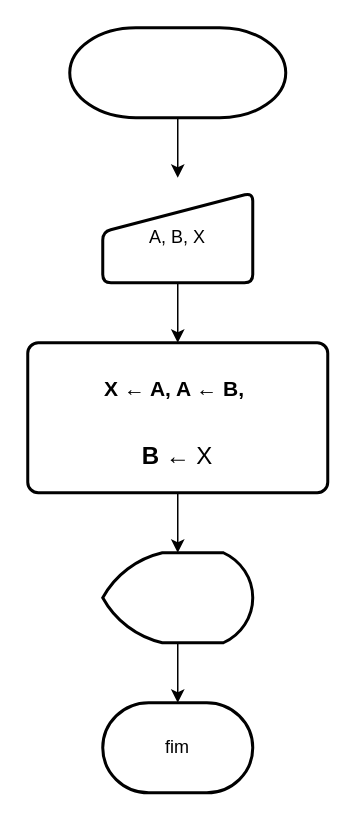
The diagram is 354 pixels wide and 819 high, and some of its shapes have lost their labels. The centre of each missing label's shape, as x and y in pixels:
"A, B" goes at [177,597].
"início" goes at [177,72].
